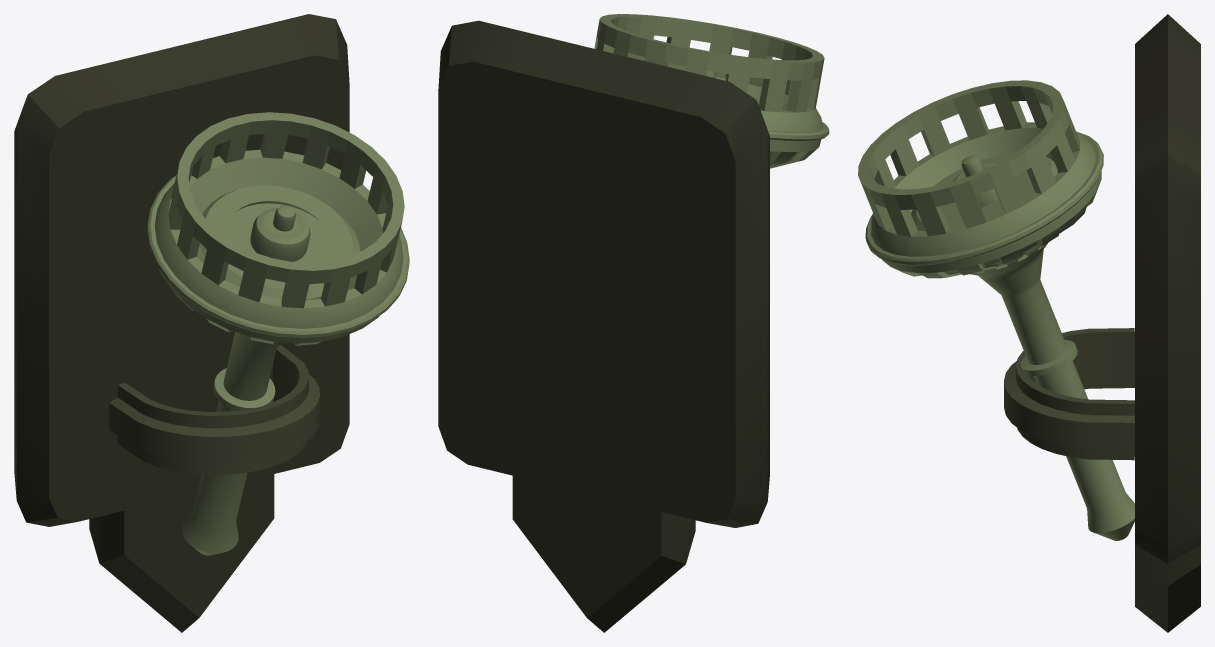
File: Dungeon_WallTorch.glb
3 renders of one model, left to right at view 1: azimuth 30°, elevation 25°; view 2: azimuth 150°, elevation 25°; view 3: azimuth 270°, elevation 25°, orthographic. The views are drawn at different scales.
Parts seen in each view (by area): view 1: Torch_Wall; view 2: Torch_Wall; view 3: Torch_Wall.
Part boxes in pixels (bbox=[...]): Torch_Wall: bbox=[14, 14, 409, 632]; Torch_Wall: bbox=[438, 14, 829, 632]; Torch_Wall: bbox=[858, 14, 1200, 632].
Size of the model in its own units: 0.726 by 1.23 by 0.6863.
